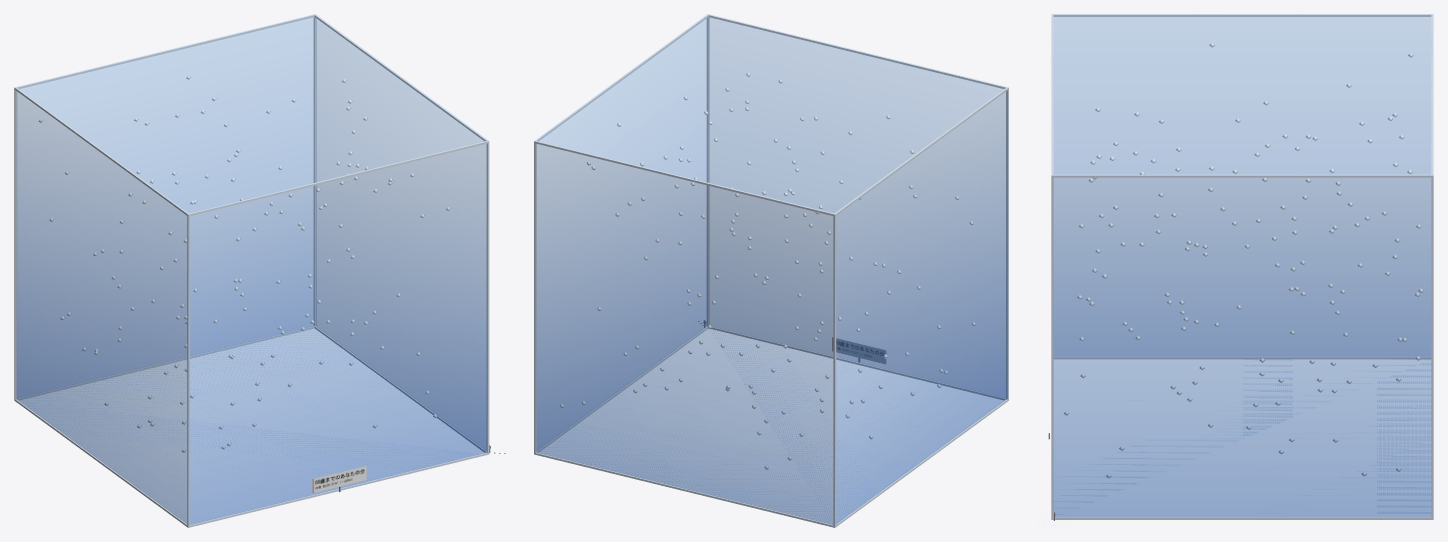
File: cube_life_69.glb
3 views of the same model, side by side, from view 1: azimuth 30°, elevation 25°; view 2: azimuth 150°, elevation 25°; view 3: azimuth 270°, elevation 25° (orthographic). The views are drawn at different scales.
Visible parts, largest first — view 1: co2, edge, dots, label; view 2: co2, edge, dots, label; view 3: co2, edge, dots.
Boxes of the visible parts, x1=… form: co2: x1=16, y1=15, x2=486, y2=524; edge: x1=14, y1=14, x2=489, y2=527; dots: x1=38, y1=75, x2=450, y2=452; label: x1=312, y1=466, x2=366, y2=492; co2: x1=536, y1=15, x2=1006, y2=524; edge: x1=534, y1=14, x2=1008, y2=527; dots: x1=560, y1=72, x2=975, y2=469; label: x1=832, y1=337, x2=885, y2=363; co2: x1=1053, y1=14, x2=1431, y2=516; edge: x1=1051, y1=14, x2=1433, y2=519; dots: x1=1064, y1=42, x2=1423, y2=478.
Size of the model in its own units: 70.22 by 66.46 by 69.32.
Materials: 8 (3 with a texture image).
